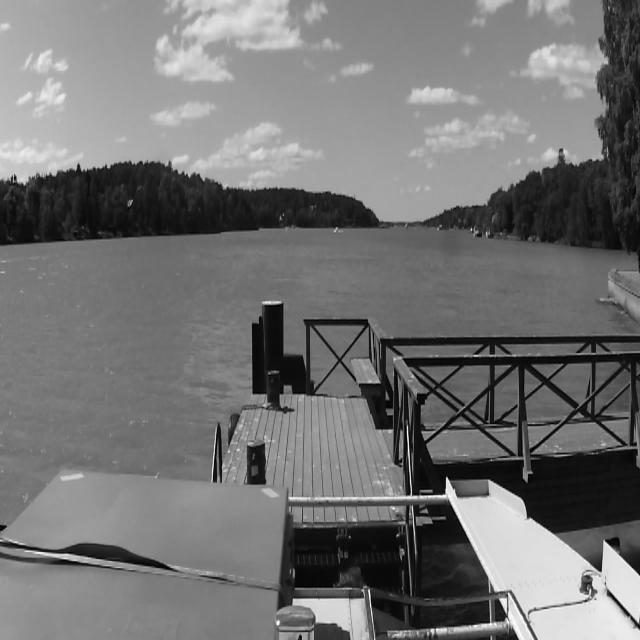ship: (332, 223, 341, 237)
